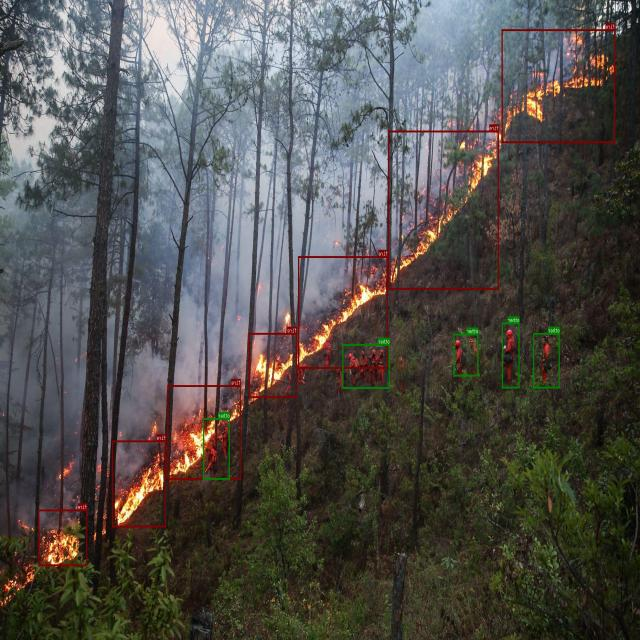fire: (388, 130, 499, 290), (502, 29, 615, 143), (298, 256, 388, 368), (168, 385, 241, 479), (112, 440, 166, 527), (249, 332, 297, 398), (38, 509, 88, 566)
other: (343, 344, 390, 388), (203, 418, 230, 479), (533, 333, 560, 388), (502, 322, 520, 388), (454, 333, 478, 376)
